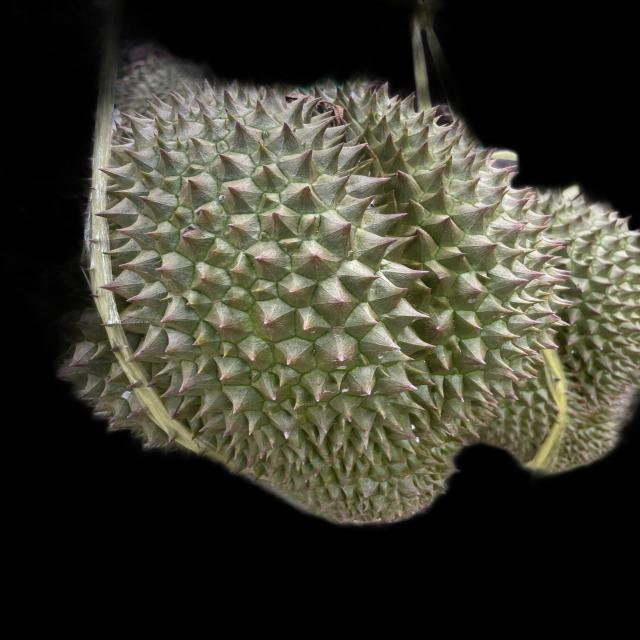immature: (86, 87, 570, 524)
